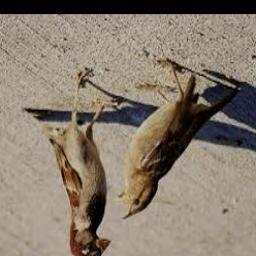Sparrow: (118, 58, 241, 221), (26, 68, 120, 256)
